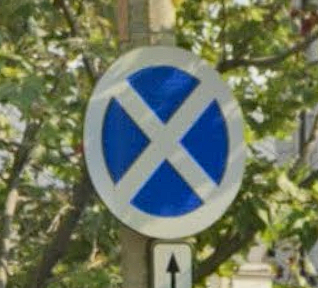oprirea_interzisa: (81, 45, 245, 240)
